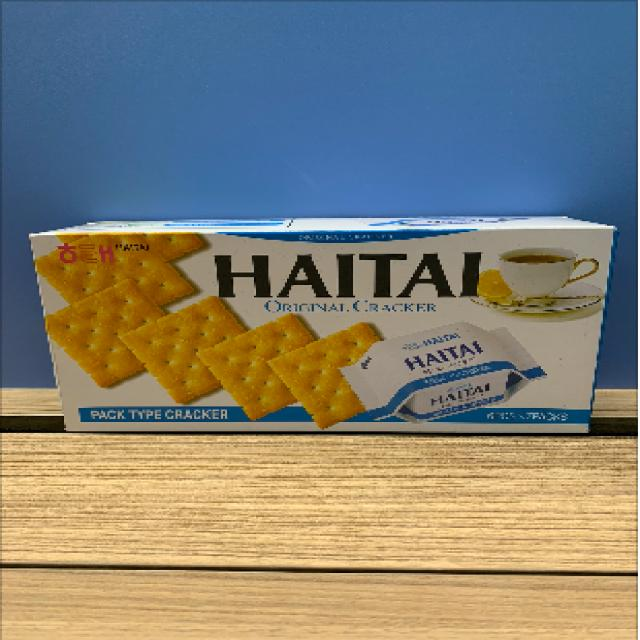object_name: (41, 232, 595, 431)
